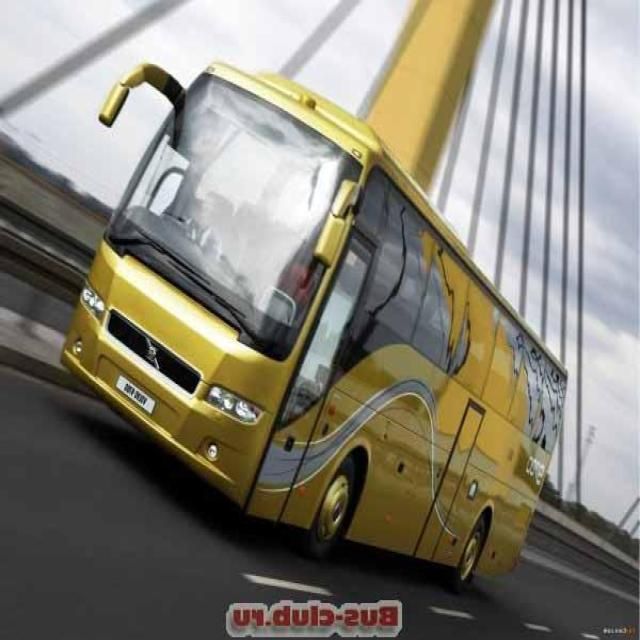bus: (60, 35, 574, 598)
